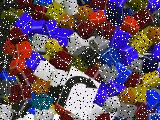Right: (57, 65, 100, 120)
